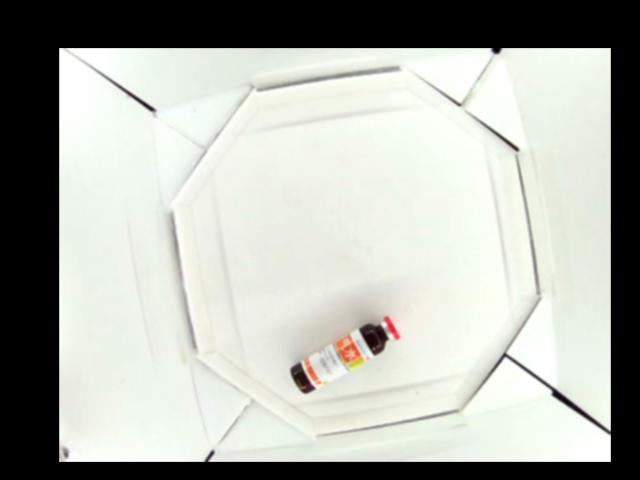Medicine: (291, 316, 399, 395)
